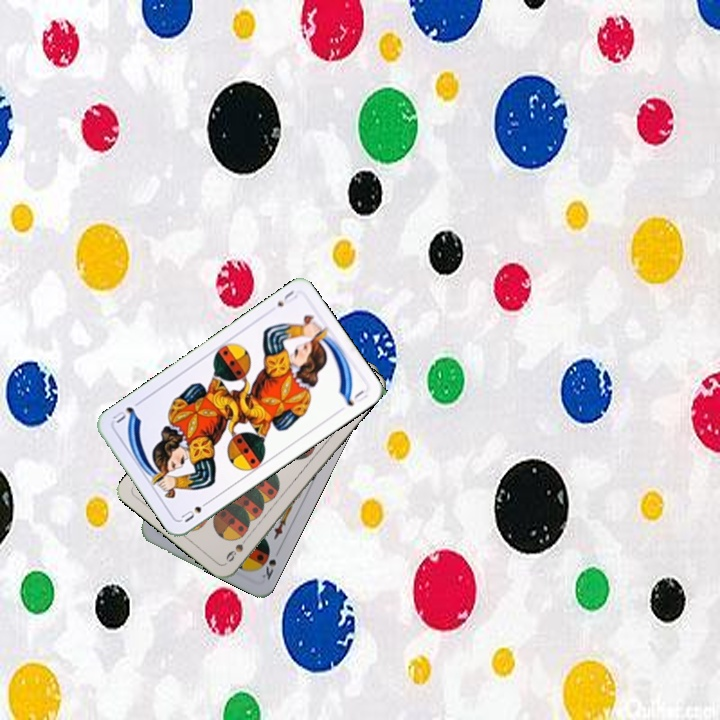S9: (222, 531, 252, 565)
SK: (258, 555, 279, 582)
SU: (177, 496, 213, 525), (273, 286, 299, 309)
